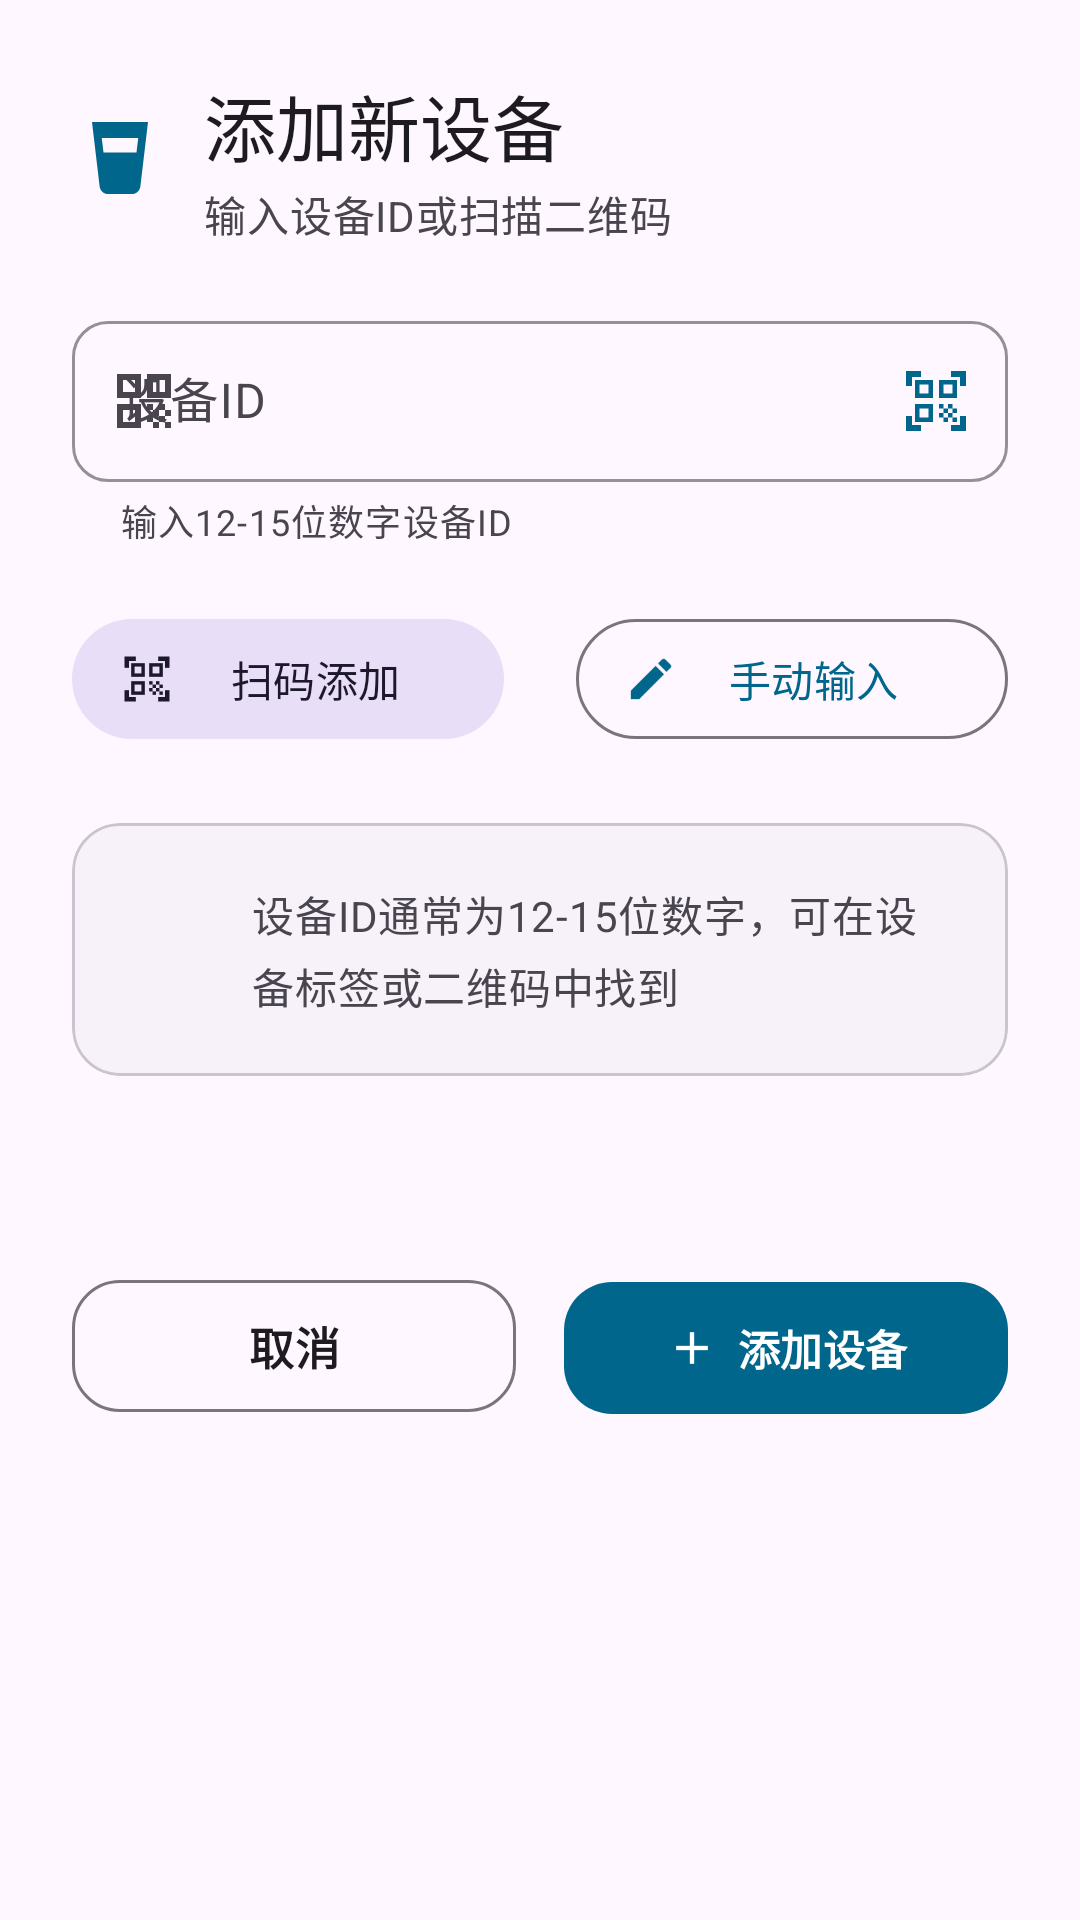

Named icons in this screenshot (1080 × 1920) and their centers, point (x, y):
device water dispenser: point (120, 158)
